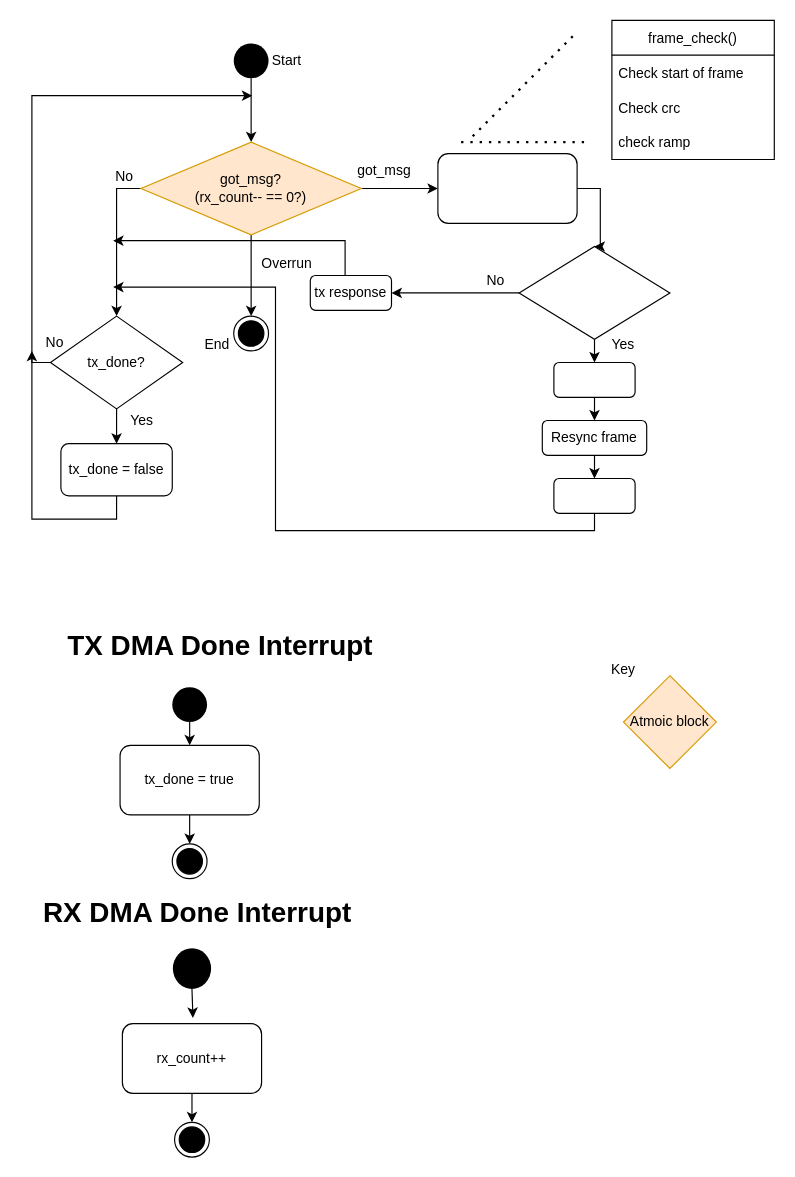
The diagram is 795 pixels wide and 1177 high, and some of its shapes have lost their labels. The shapes that lost their labels are listed below. From the top down, each one's centre as x and y in pixels, then its label:
At point 507,188: "err = frame_check()".
At point 594,292: "err?".
At point 594,379: "stop_dma".
At point 594,495: "start_dma".
